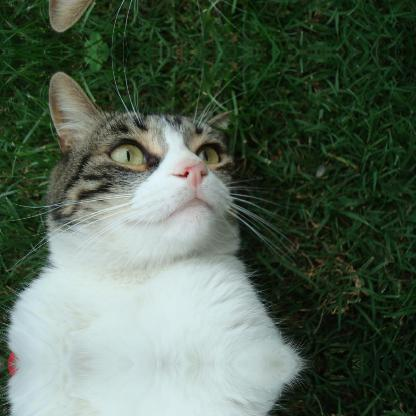Cat: (0, 52, 306, 362)
